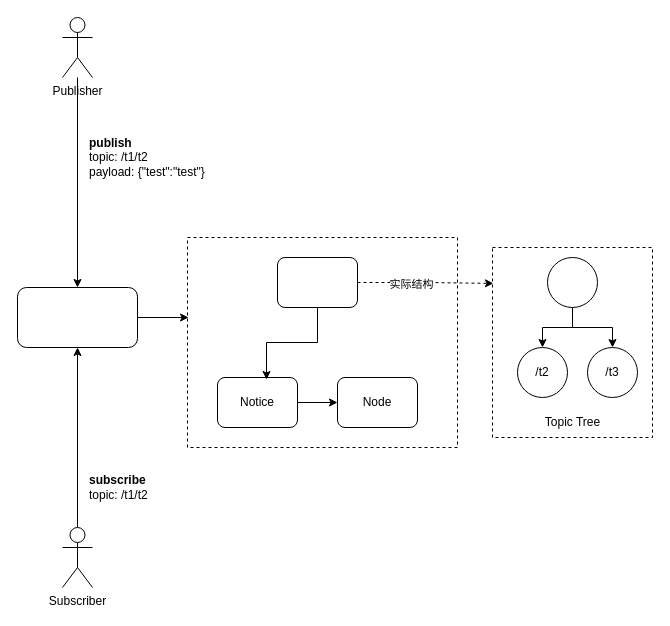
Some shapes in this 670 by 626 pixel diagram are drawn without their labels. Each missing label, with the box of its shape:
/t1: (546, 256, 598, 308)
EventBus: (16, 286, 138, 348)
Topic: (276, 256, 358, 308)
